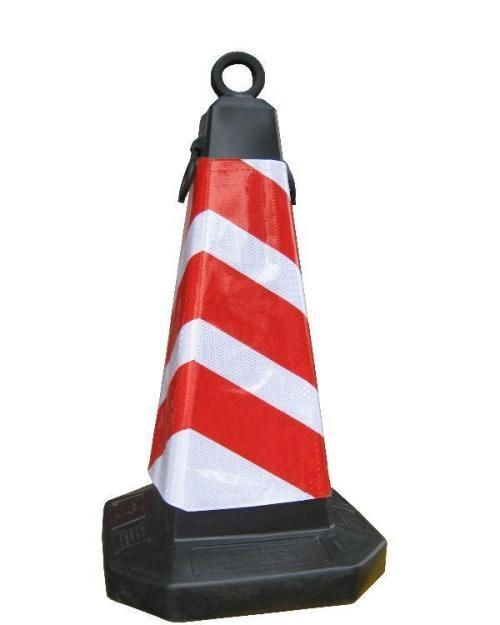cone_barrel: (115, 70, 376, 608)
